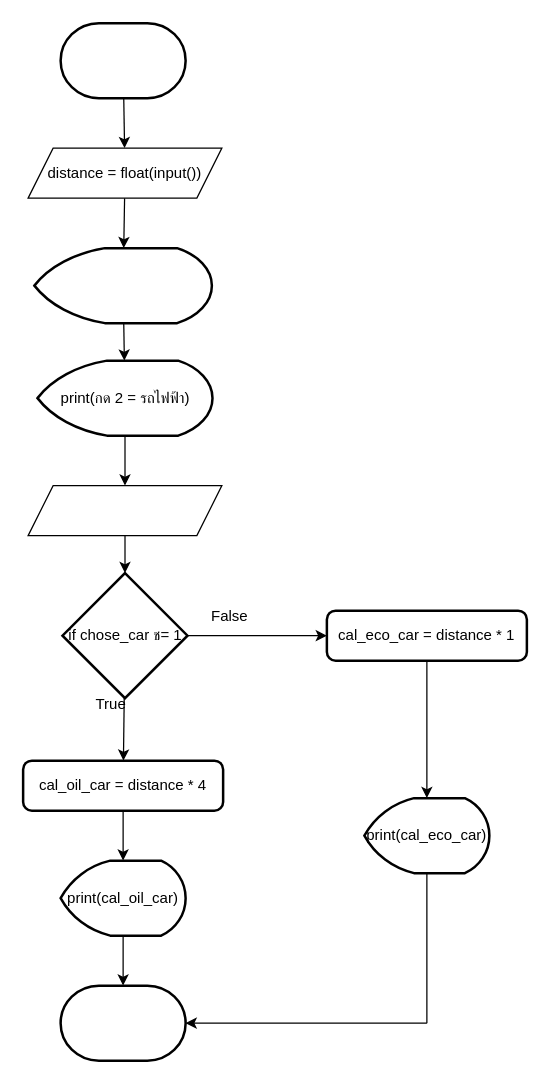
Some shapes in this 549 by 1083 pixel diagram are drawn without their labels. The centre of each missing label's shape, as x and y in pixels:
"chose_car = int(Input())" belongs at point (124, 510).
"End" belongs at point (122, 1022).
"print(กด 1 = รถใช้น้ำมัน)" belongs at point (122, 285).
"Start" belongs at point (122, 60).
